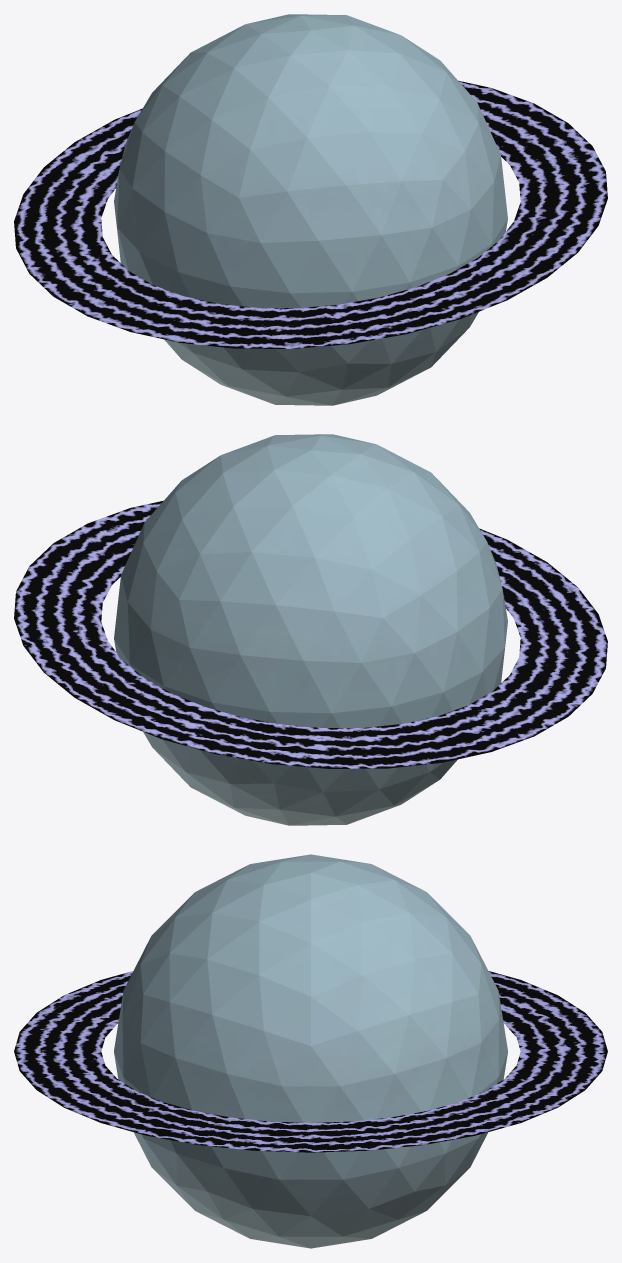
The model's file is Uranus.gltf.
3 renders of one model, top to bottom at view 1: azimuth 30°, elevation 25°; view 2: azimuth 150°, elevation 25°; view 3: azimuth 270°, elevation 25°, orthographic.
Parts seen in each view (by area): view 1: Uranus; view 2: Uranus; view 3: Uranus.
Part boxes in pixels (box(x1,y1,x2,y2)): Uranus: box(14, 14, 607, 405); Uranus: box(14, 434, 607, 825); Uranus: box(14, 854, 607, 1248).
Size of the model in its own units: 3 by 2 by 3.01.
Materials: 2 (2 with a texture image).
